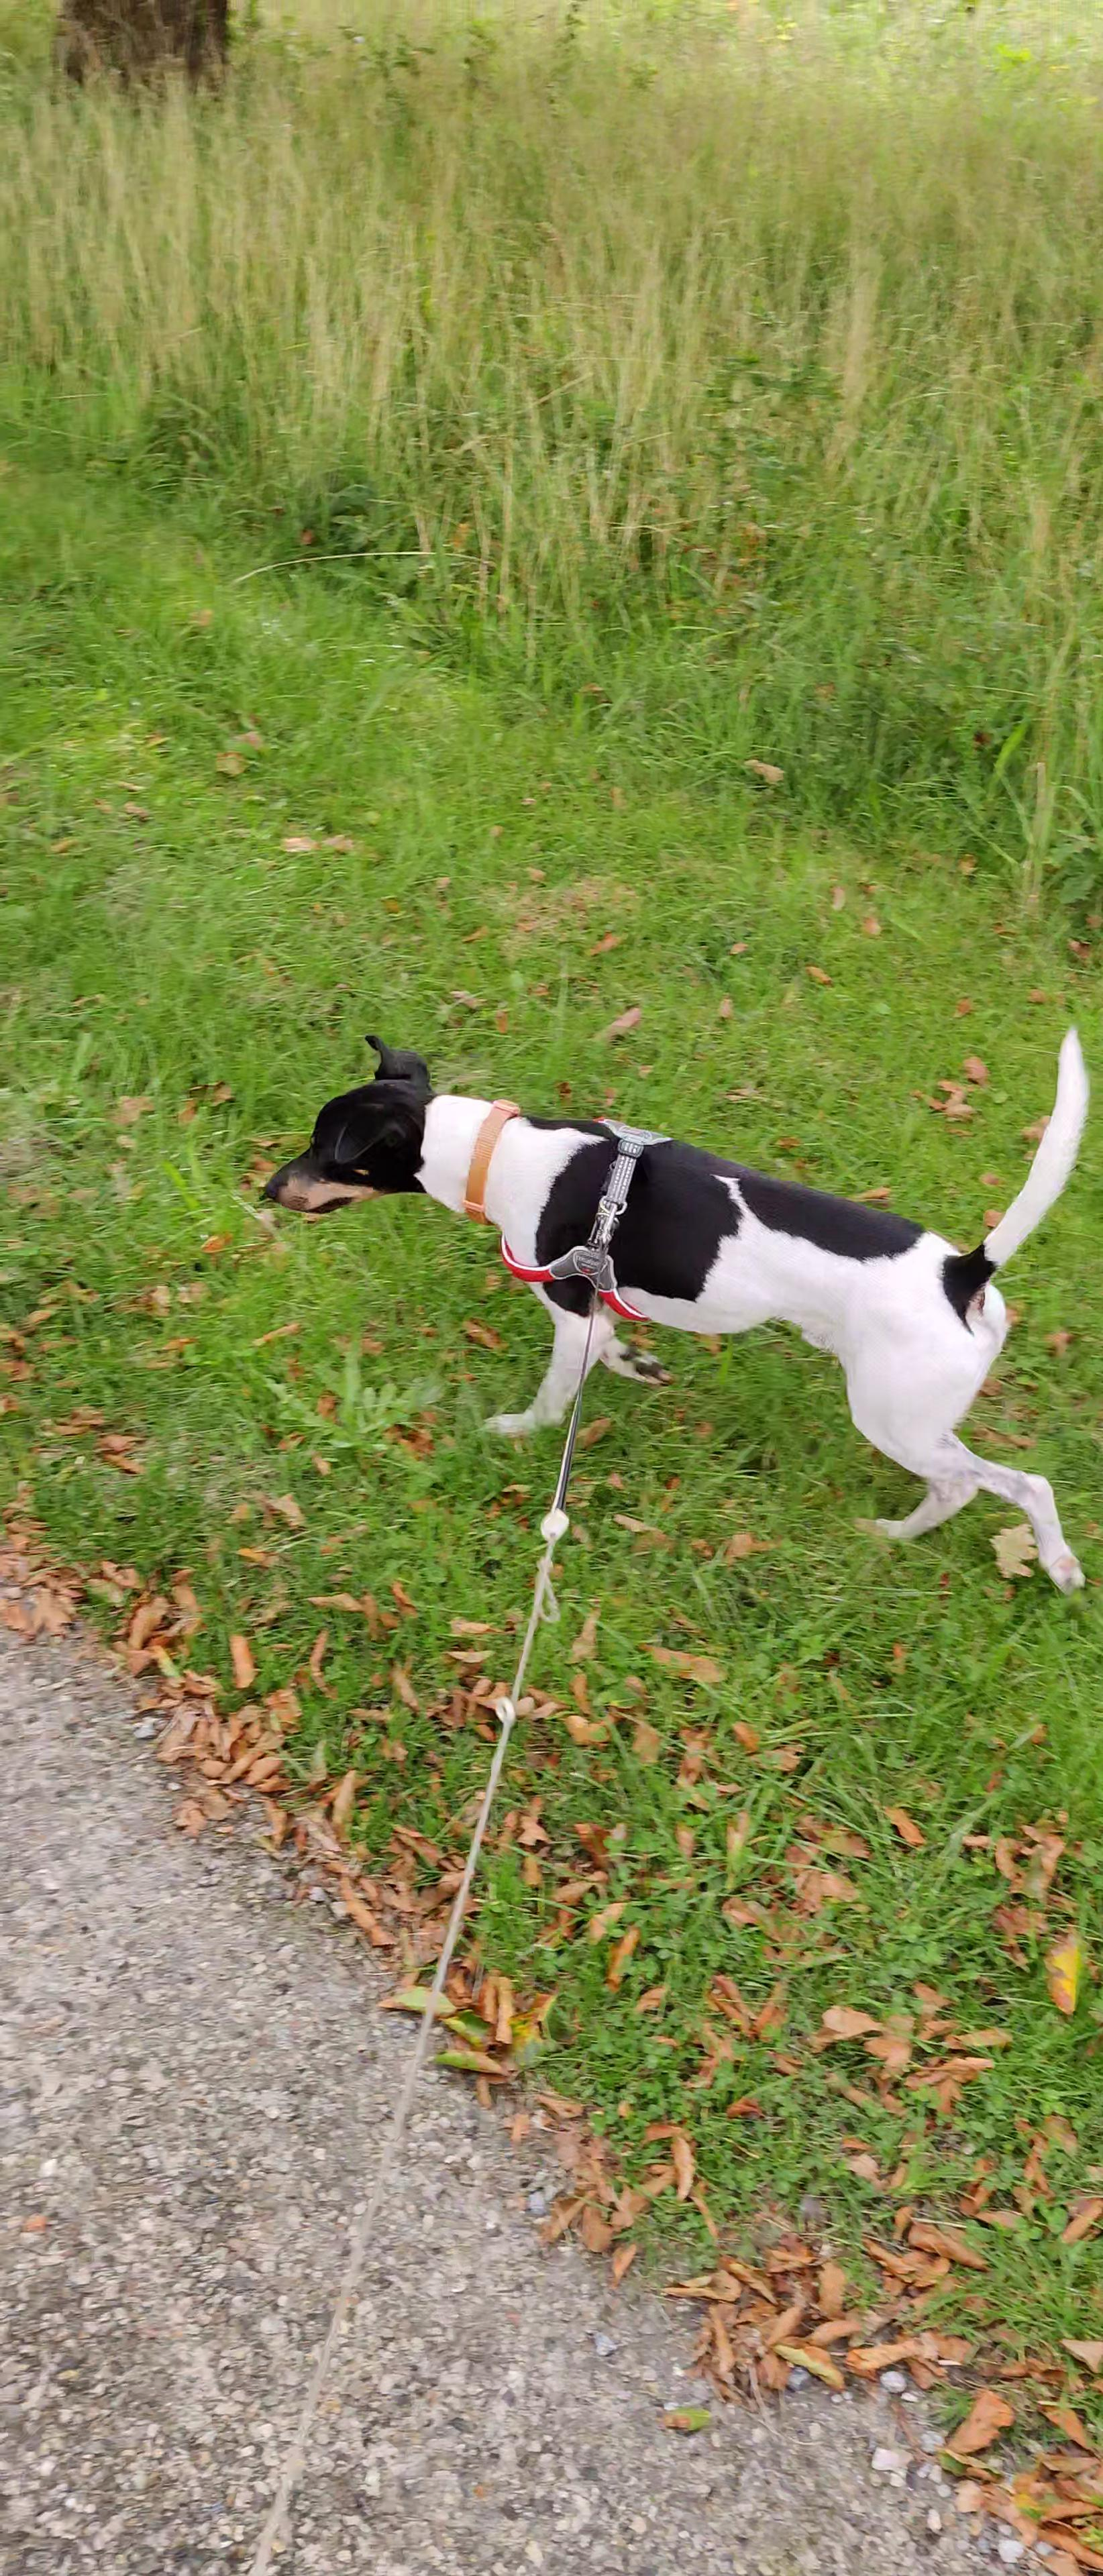Dog: (253, 1019, 1091, 1598)
